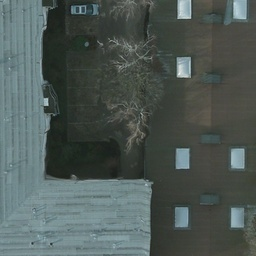car: (71, 2, 100, 17)
